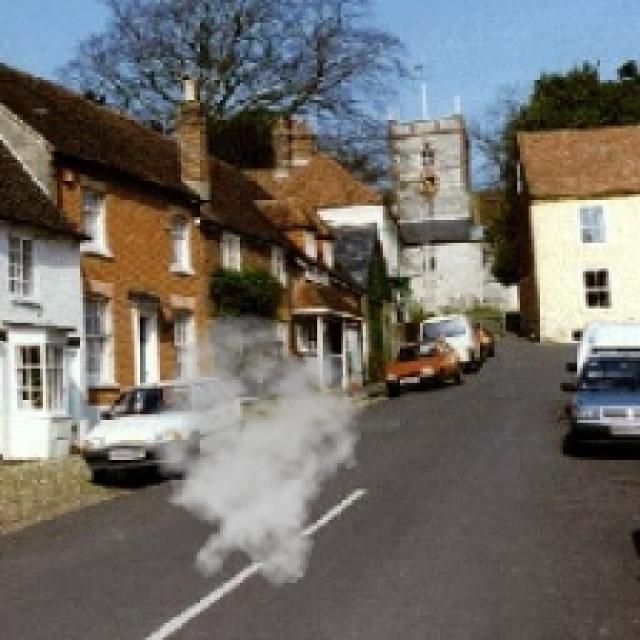Smoke: (128, 312, 374, 588)
